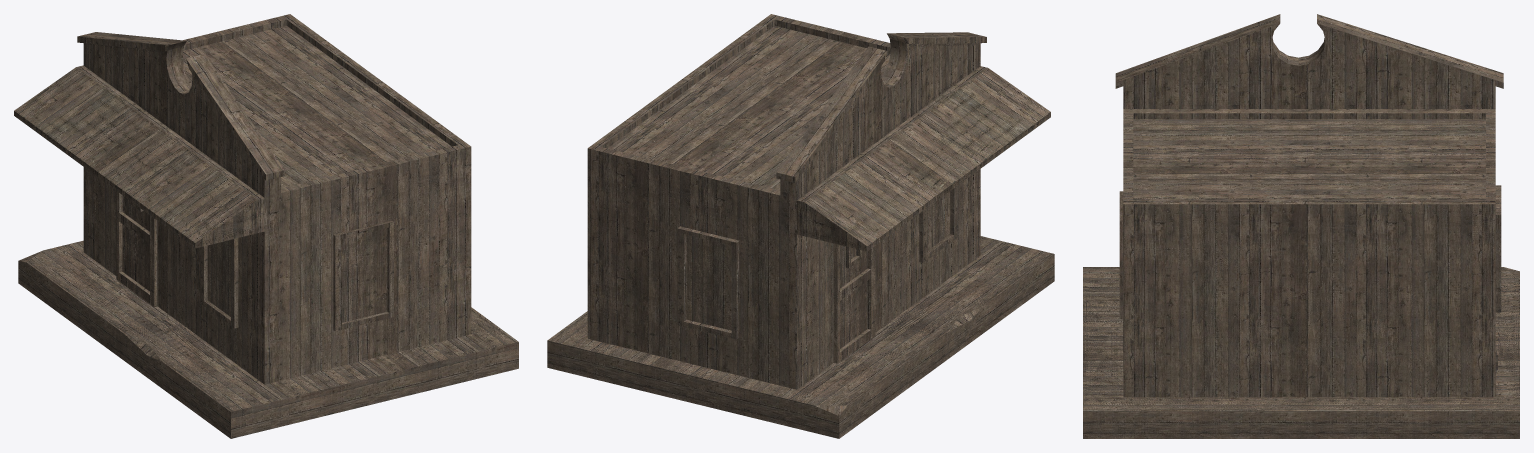
File: House 9 Ex.fbx
The picture shows the model from 3 angles, left to right: view 1: azimuth 30°, elevation 25°; view 2: azimuth 150°, elevation 25°; view 3: azimuth 270°, elevation 25°; orthographic projection. The views are drawn at different scales.
Parts seen in each view (by area): view 1: Model; view 2: Model; view 3: Model.
Boxes of the visible parts, left/top/right/bottom form: Model: left=14, top=14, right=518, bottom=438; Model: left=547, top=14, right=1054, bottom=438; Model: left=1083, top=14, right=1519, bottom=438.
Size of the model in its own units: 55.87 by 52.34 by 67.69.
